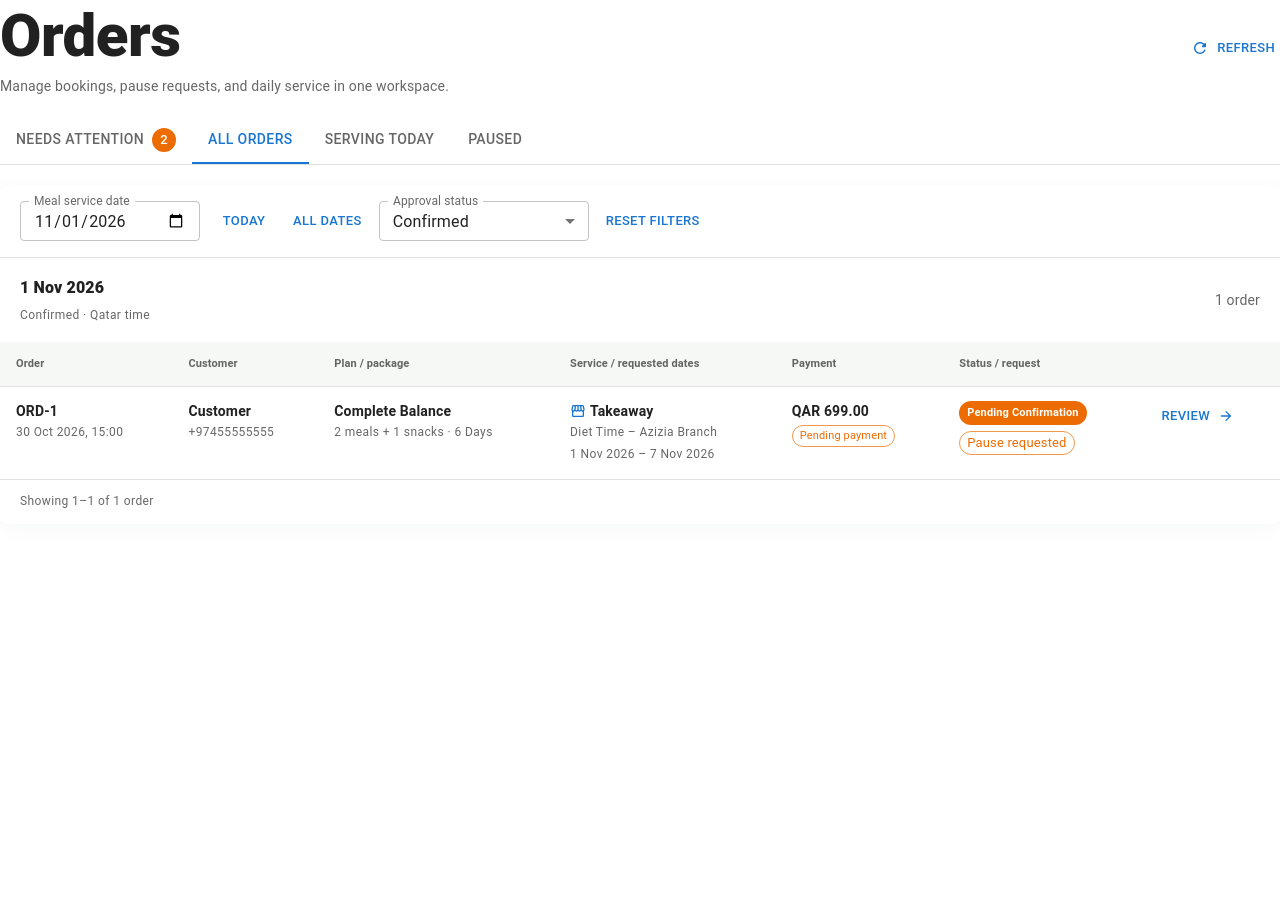
Scenario: Unified order requests › opens the pending pause from its order badge while retaining filters
Click the button "Pause requested".
click(1017, 443)  # box x1=959 y1=431 x2=1075 y2=455
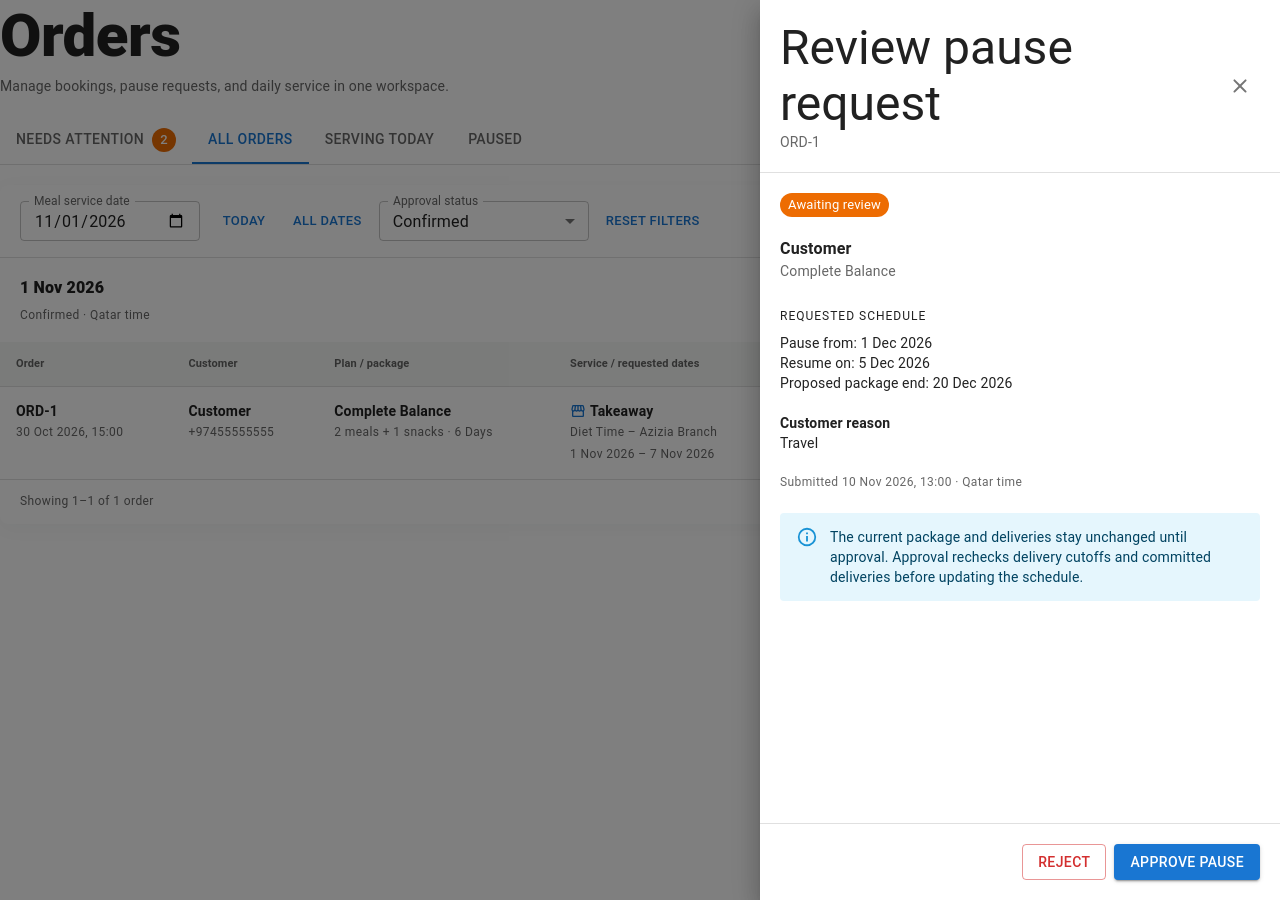
Click the button named "Close request details".
click(1240, 86)  # box x1=1220 y1=66 x2=1260 y2=106
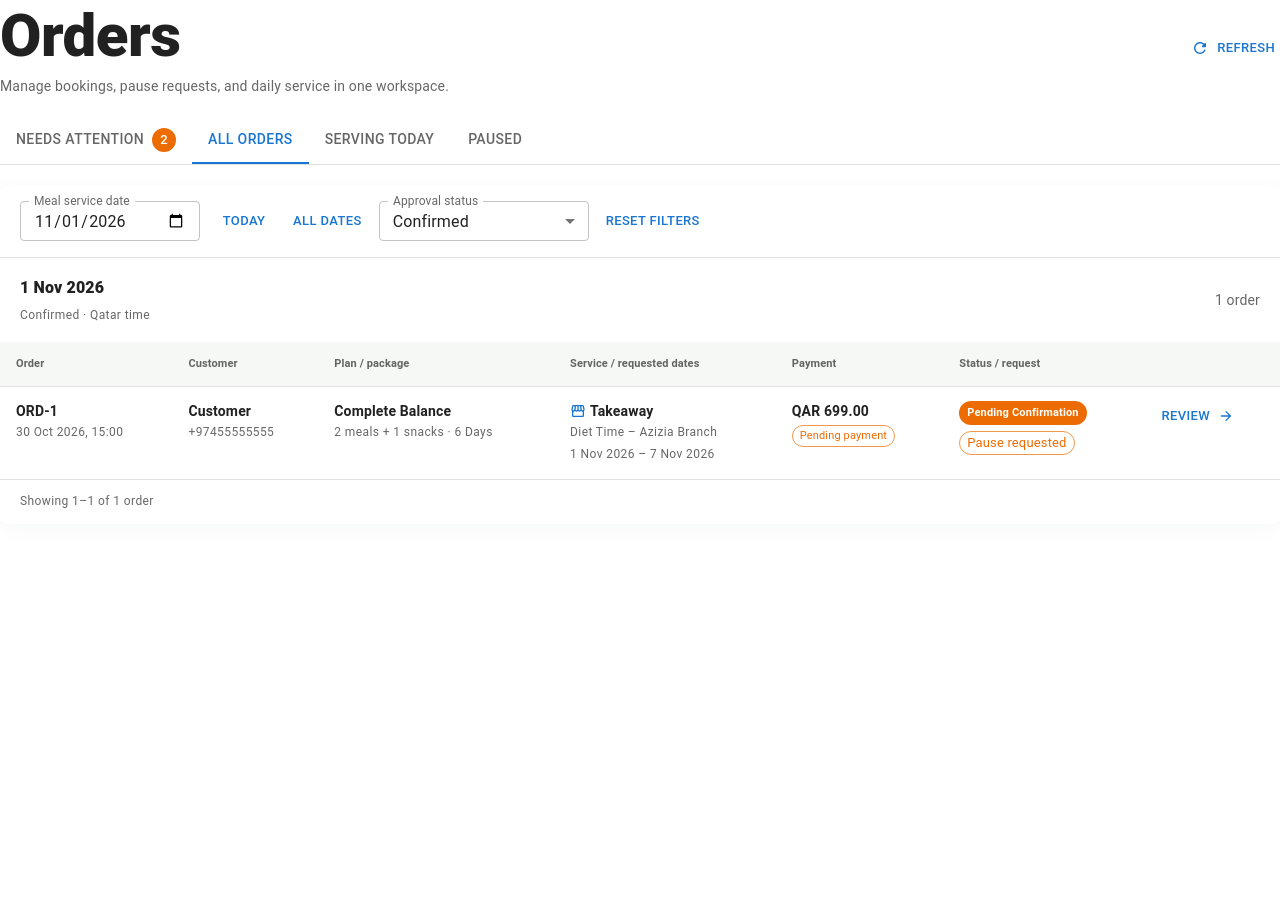
Check: the date field labelled "Meal service date" holds "2026-11-01", box x1=20 y1=201 x2=200 y2=241
Check: the dialog is gone
